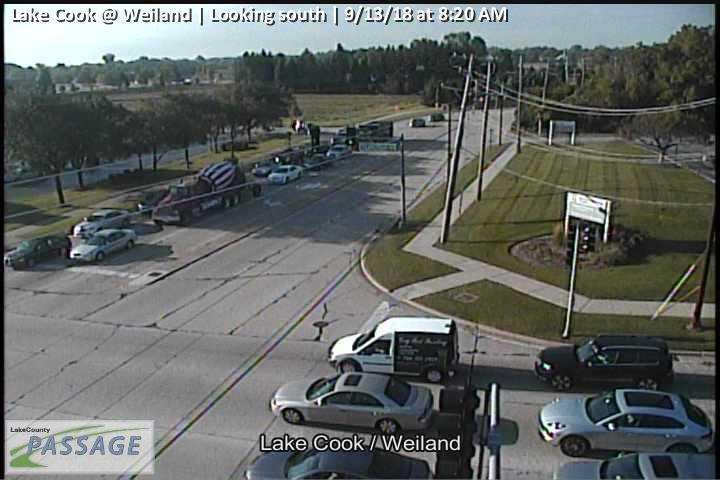SUV: (536, 335, 675, 391), (327, 144, 352, 161), (305, 152, 326, 171)
Sedan: (537, 389, 712, 456), (269, 371, 433, 434), (243, 442, 432, 480), (5, 234, 69, 270), (69, 227, 136, 257), (73, 209, 131, 241), (268, 165, 303, 184)
Truck: (330, 316, 459, 380), (152, 157, 262, 224)
